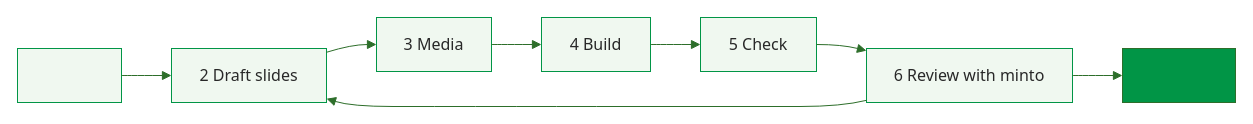
The diagram is 1253 pixels wide and 124 high, and some of its shapes have lost their labels. The shapes that lost their labels are listed below. From the top down, each one's centre as x and y in pixels, then its label:
At point 69,75: "1 Plan".
At point 1179,75: "7 Share".
